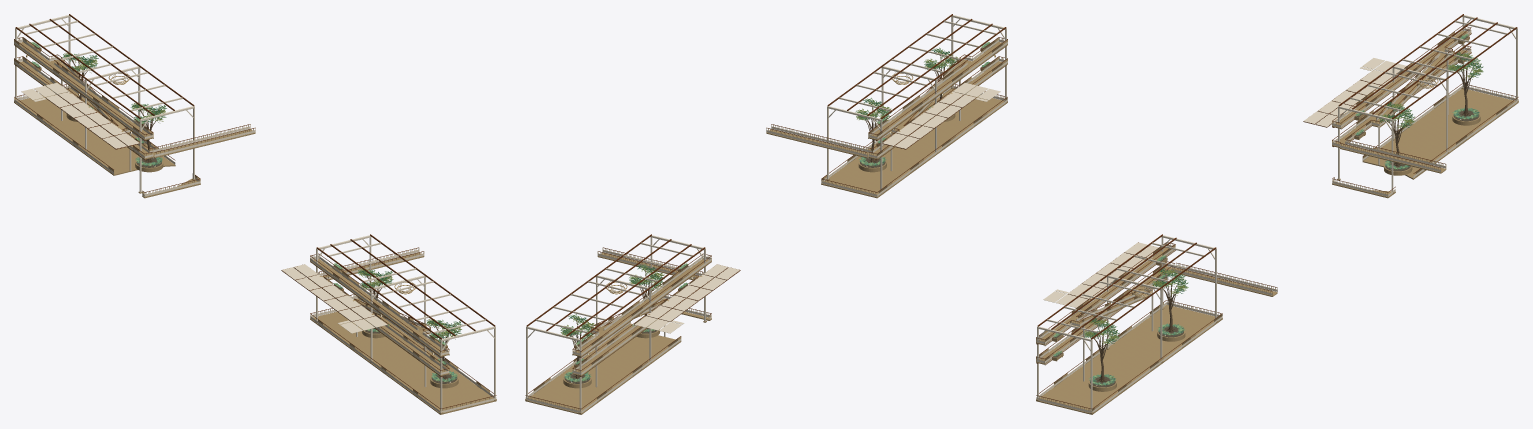
Rendered from NightGardenResortCourts_r003.glb.
3 views of the same model, side by side, from view 1: azimuth 30°, elevation 25°; view 2: azimuth 150°, elevation 25°; view 3: azimuth 330°, elevation 25° (orthographic).
Visible parts, largest first — view 1: Base_006, Base_007, Base_005, Fore_GuardBalusters, Aft_GuardBalusters, Base_004, Aft_Gallery_97.5, Fore_Gallery_97.5, Aft_Gallery_93, Fore_D15_ReceivingBridge; view 2: Base_006, Base_004, Aft_GuardBalusters, Base_005, Fore_GuardBalusters, Base_007, Fore_Gallery_97.5, Aft_Gallery_97.5, Base_003, Fore_Gallery_93, Aft_D15_ReceivingBridge; view 3: Base_006, Base_007, Base_004, Aft_GuardBalusters, Fore_GuardBalusters, Base_005, Base_003, Fore_Gallery_97.5, Aft_Gallery_97.5, Aft_Gallery_93, Fore_Gallery_93, Fore_D15_ReceivingBridge (+1 smaller).
Part boxes in pixels (box(x1,y1,x2,y2)): Base_006: box(310, 311, 440, 414); Base_007: box(372, 313, 496, 414); Base_005: box(14, 102, 137, 175); Fore_GuardBalusters: box(14, 37, 255, 196); Aft_GuardBalusters: box(310, 248, 493, 410); Base_004: box(18, 89, 137, 161); Aft_Gallery_97.5: box(310, 259, 449, 356); Fore_Gallery_97.5: box(14, 42, 153, 140); Aft_Gallery_93: box(315, 283, 449, 376); Fore_D15_ReceivingBridge: box(150, 129, 255, 158); Base_006: box(821, 102, 1007, 198); Base_004: box(525, 337, 643, 414); Aft_GuardBalusters: box(766, 37, 1007, 195); Base_005: box(581, 335, 681, 414); Fore_GuardBalusters: box(528, 248, 711, 410); Base_007: box(824, 89, 1003, 181); Fore_Gallery_97.5: box(572, 259, 711, 356); Aft_Gallery_97.5: box(868, 42, 1007, 140); Base_003: box(528, 323, 639, 398); Fore_Gallery_93: box(572, 283, 706, 376); Aft_D15_ReceivingBridge: box(766, 129, 871, 158); Base_006: box(1039, 304, 1214, 398); Base_007: box(1036, 318, 1222, 414); Base_004: box(1406, 89, 1514, 160); Aft_GuardBalusters: box(1036, 243, 1277, 412); Fore_GuardBalusters: box(1332, 27, 1515, 196); Base_005: box(1362, 89, 1461, 167); Base_003: box(1405, 102, 1518, 179); Fore_Gallery_97.5: box(1332, 30, 1471, 128); Aft_Gallery_97.5: box(1036, 247, 1174, 345); Aft_Gallery_93: box(1036, 266, 1174, 364); Fore_Gallery_93: box(1332, 50, 1470, 147); Fore_D15_ReceivingBridge: box(1340, 144, 1446, 173).
Bounding box in the file's own units: 36.95 × 17.69 × 181.
24 materials, 18 textured.
